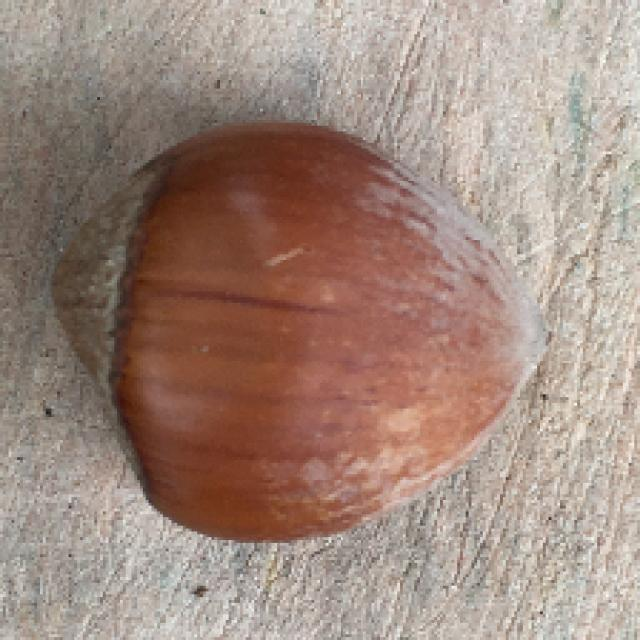qualityHazelnut: (47, 117, 558, 547)
